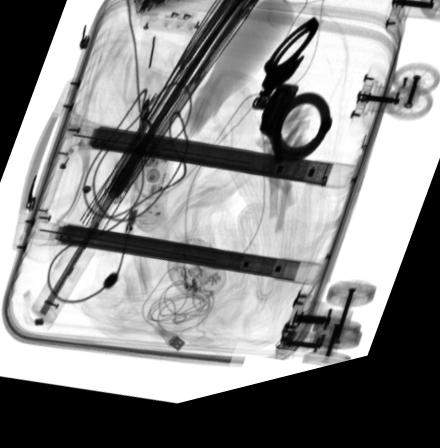HandCuffs: (249, 32, 332, 180)
